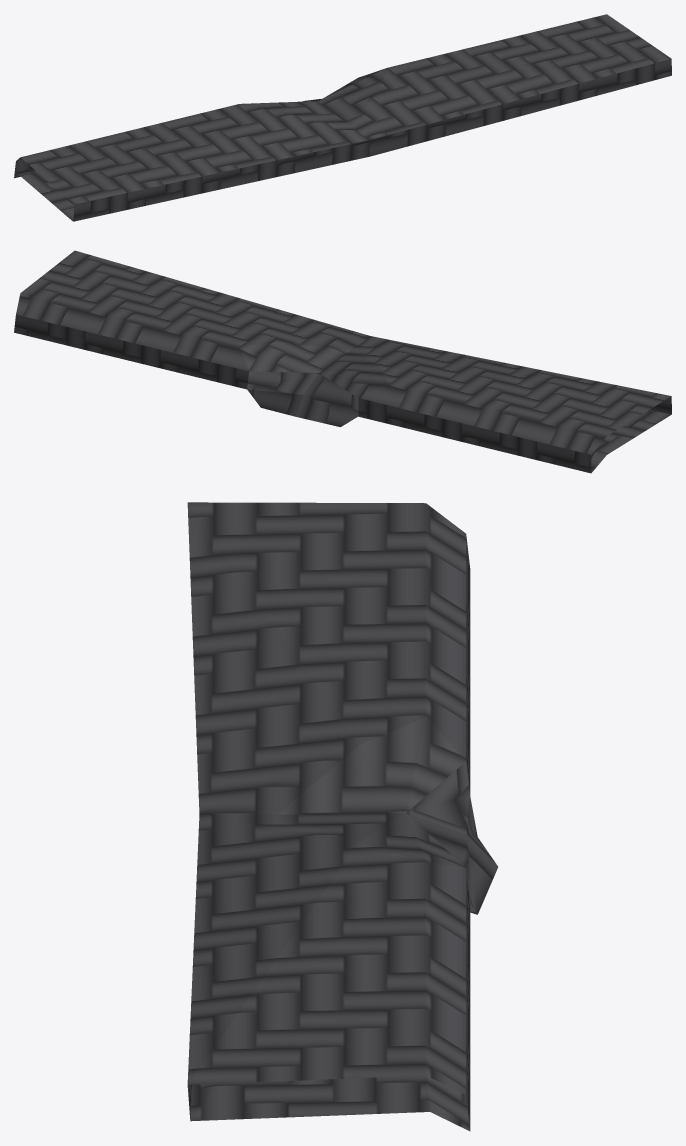
File: drs.obj
The picture shows the model from 3 angles, top to bottom: view 1: azimuth 30°, elevation 25°; view 2: azimuth 150°, elevation 25°; view 3: azimuth 270°, elevation 25°; orthographic projection. The views are drawn at different scales.
Parts seen in each view (by area): view 1: aleta_drs; view 2: aleta_drs; view 3: aleta_drs.
Boxes of the visible parts, x1,y1,x2,y2 form: aleta_drs: (14, 14, 671, 221); aleta_drs: (14, 250, 671, 473); aleta_drs: (187, 502, 497, 1131).
Bounding box in the file's own units: 1.74 × 0.1204 × 0.3917.
Materials: 1 (1 with a texture image).
